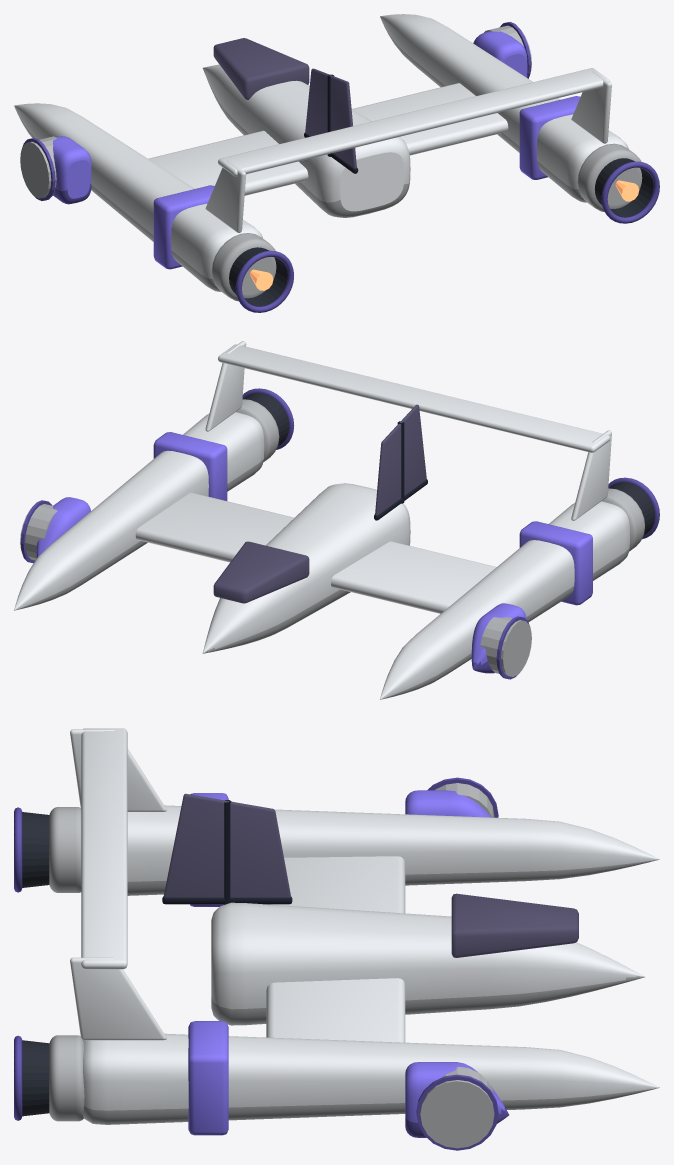
The model's file is wisp.glb.
3 renders of one model, top to bottom at view 1: azimuth 30°, elevation 25°; view 2: azimuth 150°, elevation 25°; view 3: azimuth 270°, elevation 25°, orthographic. The views are drawn at different scales.
Visible parts, largest first — view 1: wisp_mesh; view 2: wisp_mesh; view 3: wisp_mesh.
Boxes of the visible parts, x1,y1,x2,y2 form: wisp_mesh: (14,14,659,312); wisp_mesh: (14,341,659,699); wisp_mesh: (14,728,659,1150).
Bounding box in the file's own units: 7.39 × 2.23 × 6.7.
